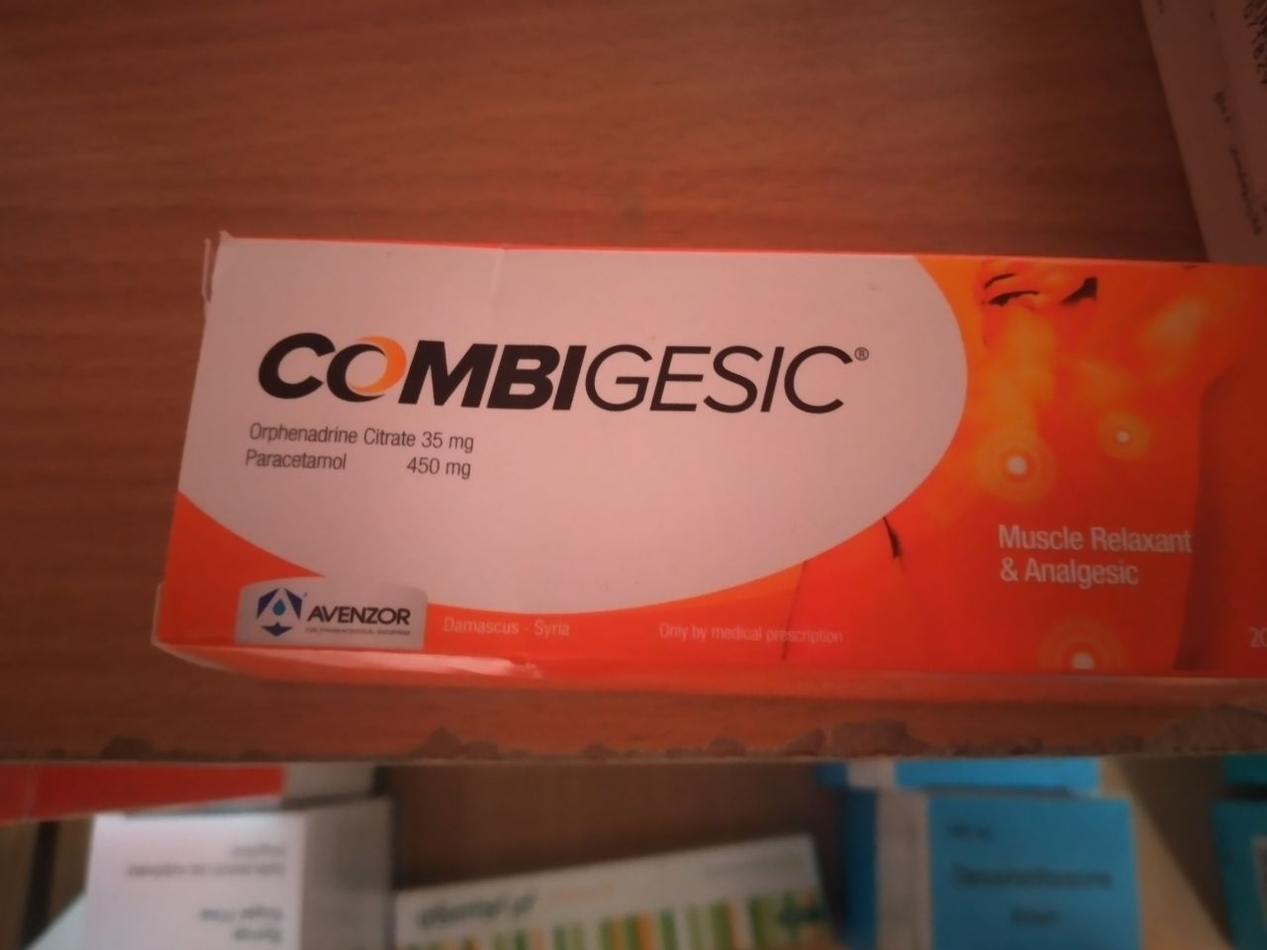Medicine: (141, 186, 1267, 730)
